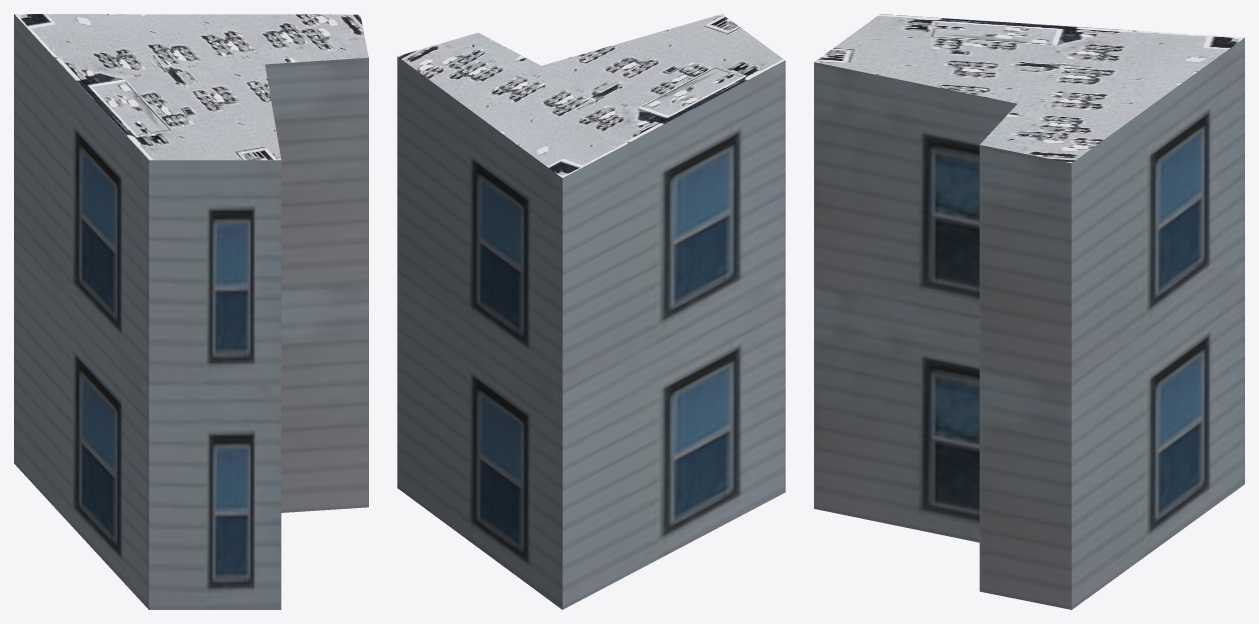
File: ResTex__5252.fbx
3 renders of one model, left to right at view 1: azimuth 30°, elevation 25°; view 2: azimuth 150°, elevation 25°; view 3: azimuth 270°, elevation 25°, orthographic. The views are drawn at different scales.
Visible parts, largest first — view 1: CityEngineMaterial_18_m, CityEngineMaterial_8_m; view 2: CityEngineMaterial_18_m, CityEngineMaterial_8_m; view 3: CityEngineMaterial_18_m, CityEngineMaterial_8_m.
Part boxes in pixels (x1=…): CityEngineMaterial_18_m: x1=14, y1=14, x2=368, y2=609; CityEngineMaterial_8_m: x1=14, y1=14, x2=368, y2=160; CityEngineMaterial_18_m: x1=397, y1=56, x2=785, y2=609; CityEngineMaterial_8_m: x1=397, y1=14, x2=785, y2=177; CityEngineMaterial_18_m: x1=814, y1=38, x2=1244, y2=609; CityEngineMaterial_8_m: x1=814, y1=14, x2=1244, y2=163.
Size of the model in its own units: 4.3 by 6 by 5.24.
2 materials, 2 textured.
